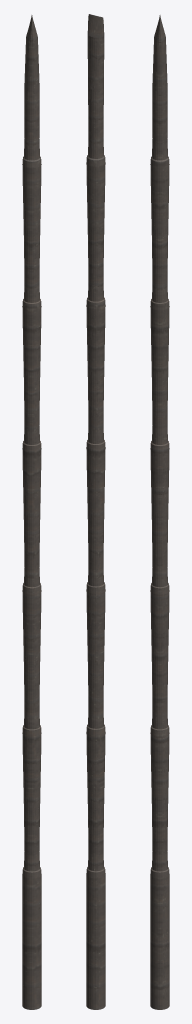
Rendered from VaraDePescar.fbx.
3 views of the same model, side by side, from view 1: azimuth 90°, elevation 25°; view 2: azimuth 150°, elevation 25°; view 3: azimuth 270°, elevation 25° (orthographic).
Visible parts, largest first — view 1: Vara; view 2: Vara; view 3: Vara.
Part boxes in pixels (bbox=[...]): Vara: bbox=[22, 15, 41, 1009]; Vara: bbox=[86, 14, 105, 1009]; Vara: bbox=[150, 15, 169, 1009].
Size of the model in its own units: 5.62 by 317 by 5.62.
